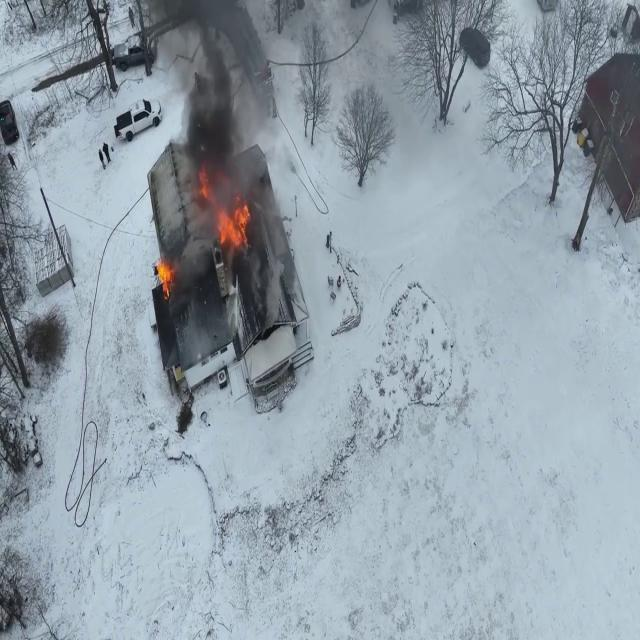Fire: (215, 188, 253, 257), (154, 250, 174, 298)
Smoke: (155, 0, 283, 245)
